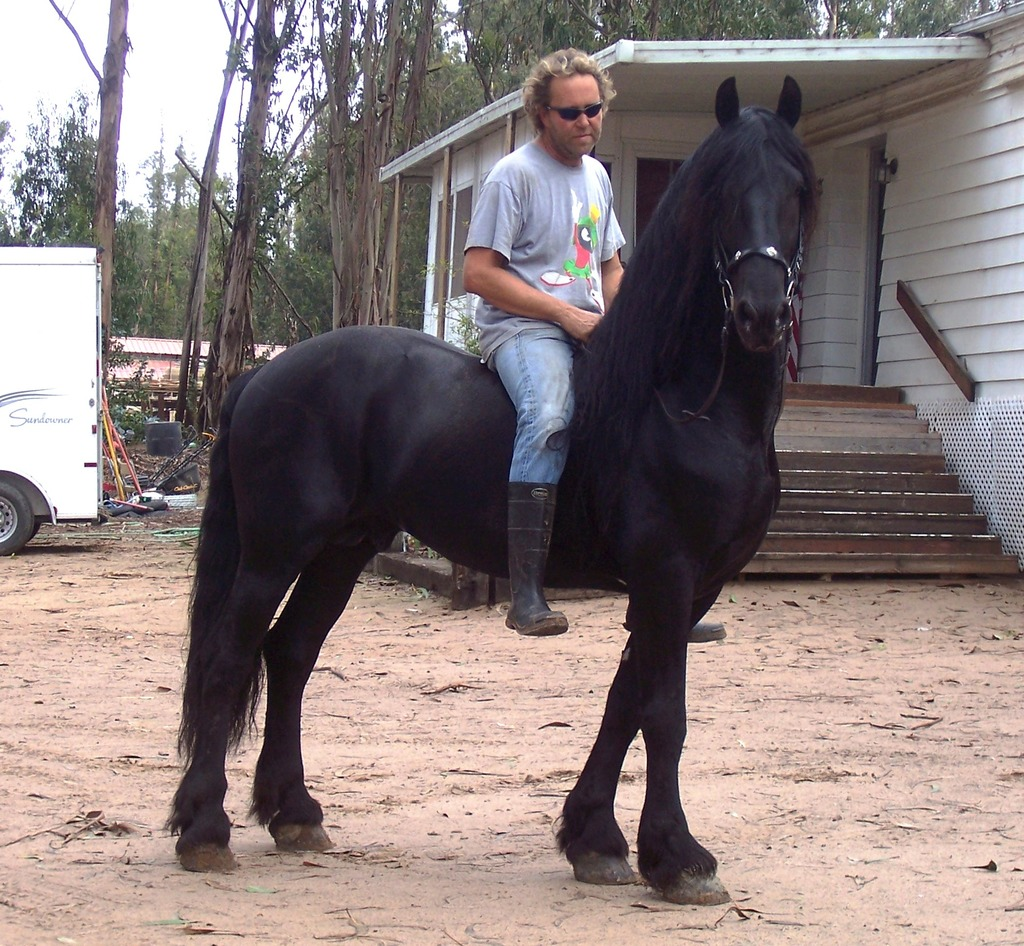horse: (161, 74, 819, 905)
